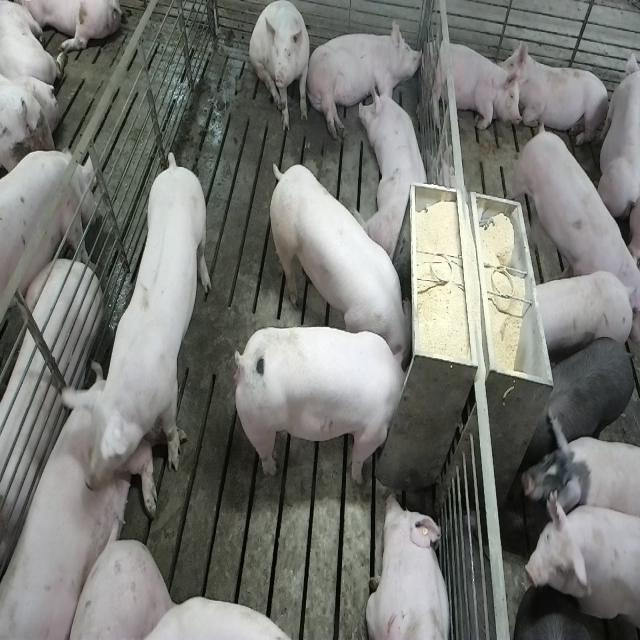Feeding: (264, 160, 412, 364), (240, 324, 416, 486)
Lateral_lying: (306, 15, 424, 142)
Sitting: (250, 1, 312, 134)
Standing: (58, 158, 210, 495), (510, 119, 640, 303), (521, 478, 638, 640), (0, 152, 95, 351), (519, 412, 637, 534), (538, 334, 636, 442), (530, 269, 636, 353)
Sternal_lying: (0, 374, 151, 635), (361, 70, 433, 259), (365, 490, 453, 640), (508, 42, 612, 151), (424, 34, 519, 135)
